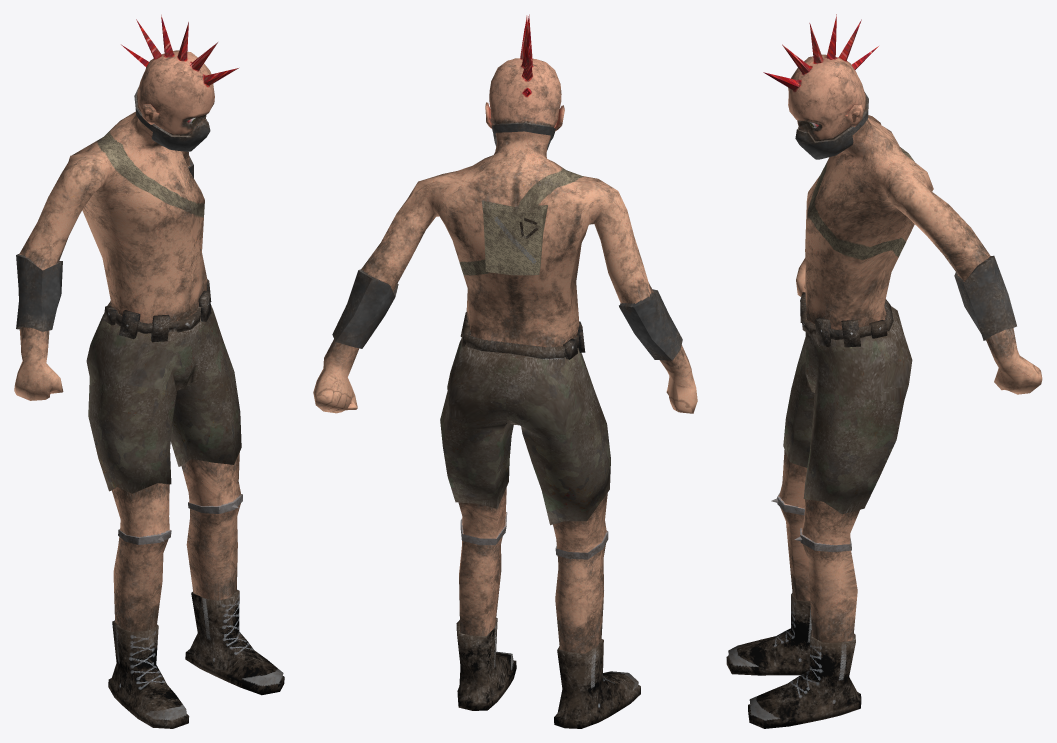
Rendered from Anim_recibirdanyo_1_npc2.0028.obj.
3 views of the same model, side by side, from view 1: azimuth 30°, elevation 25°; view 2: azimuth 150°, elevation 25°; view 3: azimuth 270°, elevation 25° (orthographic). The views are drawn at different scales.
Parts seen in each view (by area): view 1: polySurface1; view 2: polySurface1; view 3: polySurface1.
Boxes of the visible parts, left/top/right/bottom form: polySurface1: left=14, top=14, right=284, bottom=728; polySurface1: left=313, top=14, right=697, bottom=728; polySurface1: left=726, top=14, right=1042, bottom=728.
Bounding box in the file's own units: 4.17 × 9.97 × 4.25.
